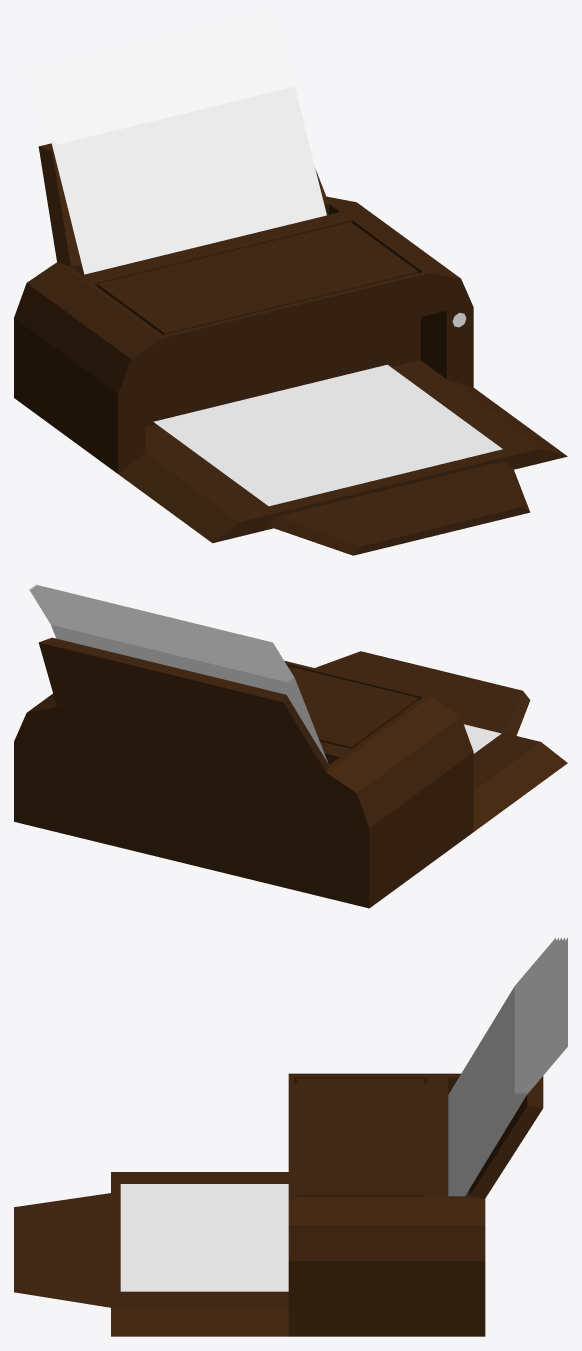
File: Printer.fbx
The picture shows the model from 3 angles, top to bottom: view 1: azimuth 30°, elevation 25°; view 2: azimuth 150°, elevation 25°; view 3: azimuth 270°, elevation 25°; orthographic projection. The views are drawn at different scales.
Visible parts, largest first — view 1: Printer; view 2: Printer; view 3: Printer.
Boxes of the visible parts, x1,y1,x2,y2 form: Printer: (14, 14, 567, 555); Printer: (14, 584, 567, 908); Printer: (14, 938, 567, 1336).
Bounding box in the file's own units: 0.5289 × 0.397 × 0.758.
